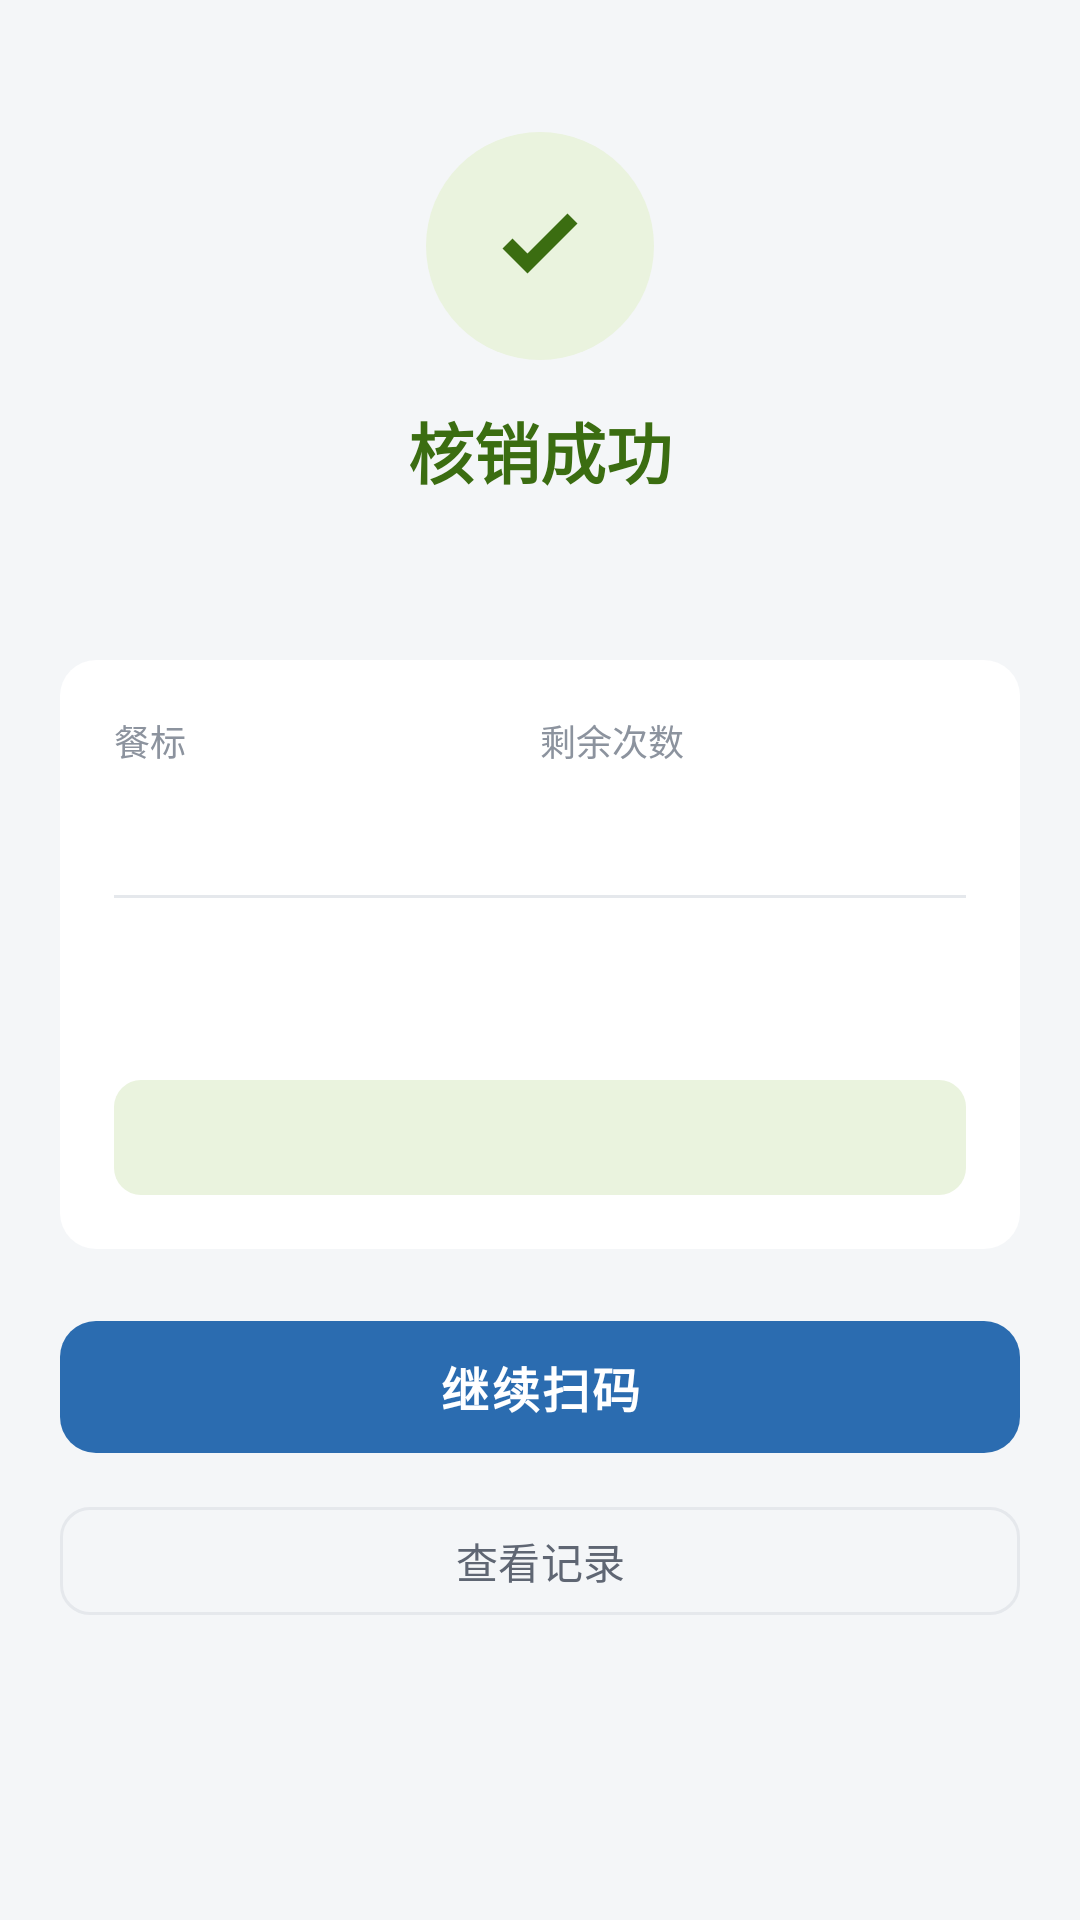

Where to tap for icons on this 1080px x 1920px app screen, as point (x, y):
核销结果: point (540, 243)
